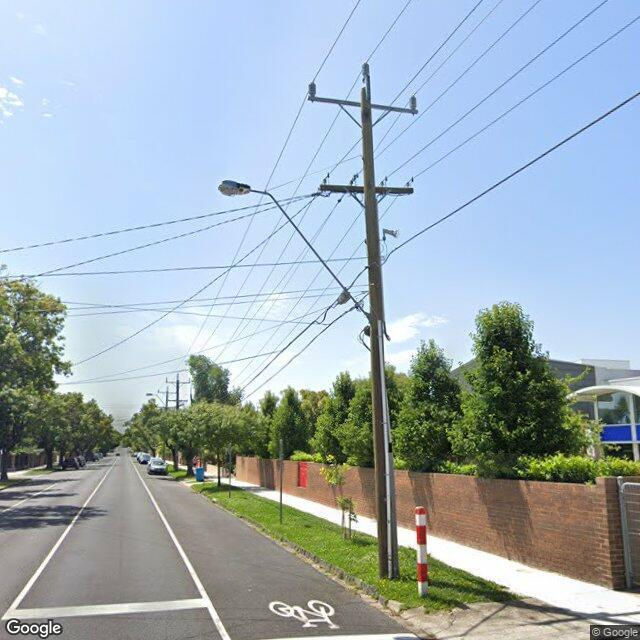HV-transmission: (308, 62, 419, 114), (166, 373, 190, 385), (158, 385, 176, 394)
crossarm: (314, 172, 416, 208), (308, 96, 419, 115), (167, 380, 189, 384), (160, 392, 176, 394)
streetlight: (216, 180, 372, 322), (146, 392, 166, 406)
timber-pole: (361, 76, 401, 579), (173, 380, 180, 471), (165, 390, 169, 408)
